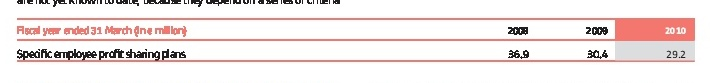table: (0, 0, 710, 83)
